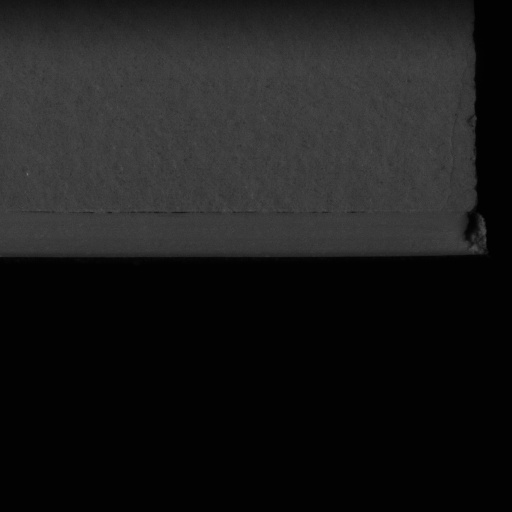bengque: (461, 202, 488, 257)
